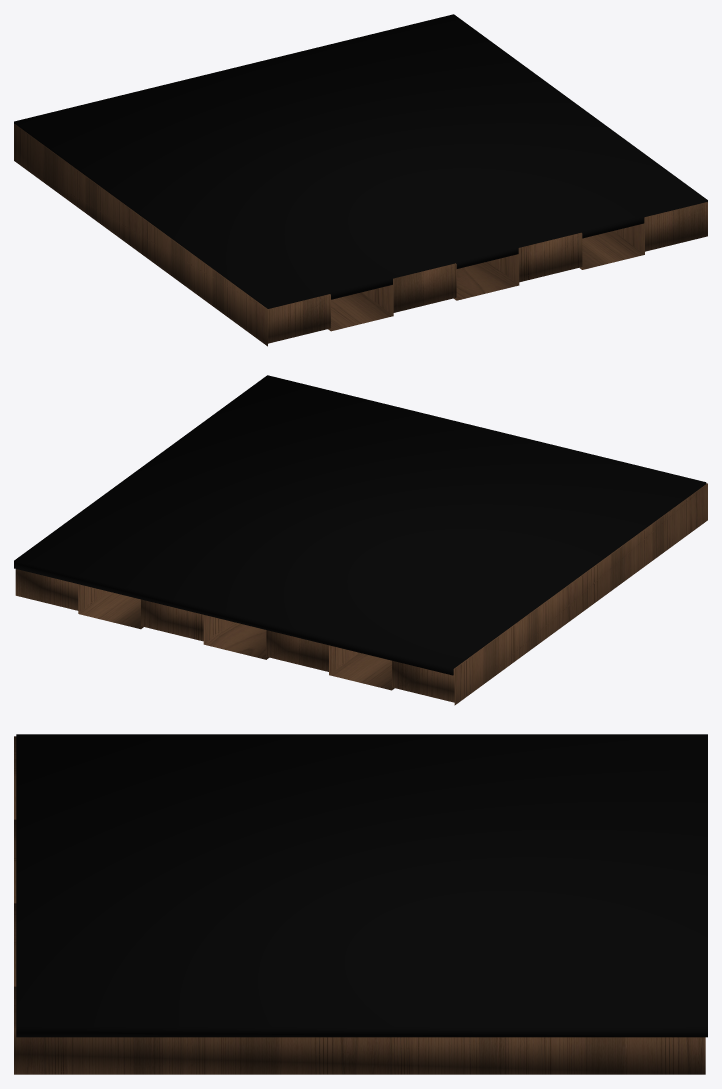
3 views of the same model, one above another, from view 1: azimuth 30°, elevation 25°; view 2: azimuth 150°, elevation 25°; view 3: azimuth 270°, elevation 25° (orthographic). The views are drawn at different scales.
Parts seen in each view (by area): view 1: Plane, Plane.001; view 2: Plane, Plane.001; view 3: Plane, Plane.001.
Boxes of the visible parts, x1=… form: Plane: x1=14, y1=14, x2=707, y2=308; Plane.001: x1=14, y1=124, x2=707, y2=346; Plane: x1=14, y1=375, x2=706, y2=675; Plane.001: x1=15, y1=483, x2=707, y2=705; Plane: x1=16, y1=734, x2=707, y2=1037; Plane.001: x1=14, y1=736, x2=705, y2=1074.
Bounding box in the file's own units: 2 × 0.1673 × 2.01.
2 materials, 1 textured.
